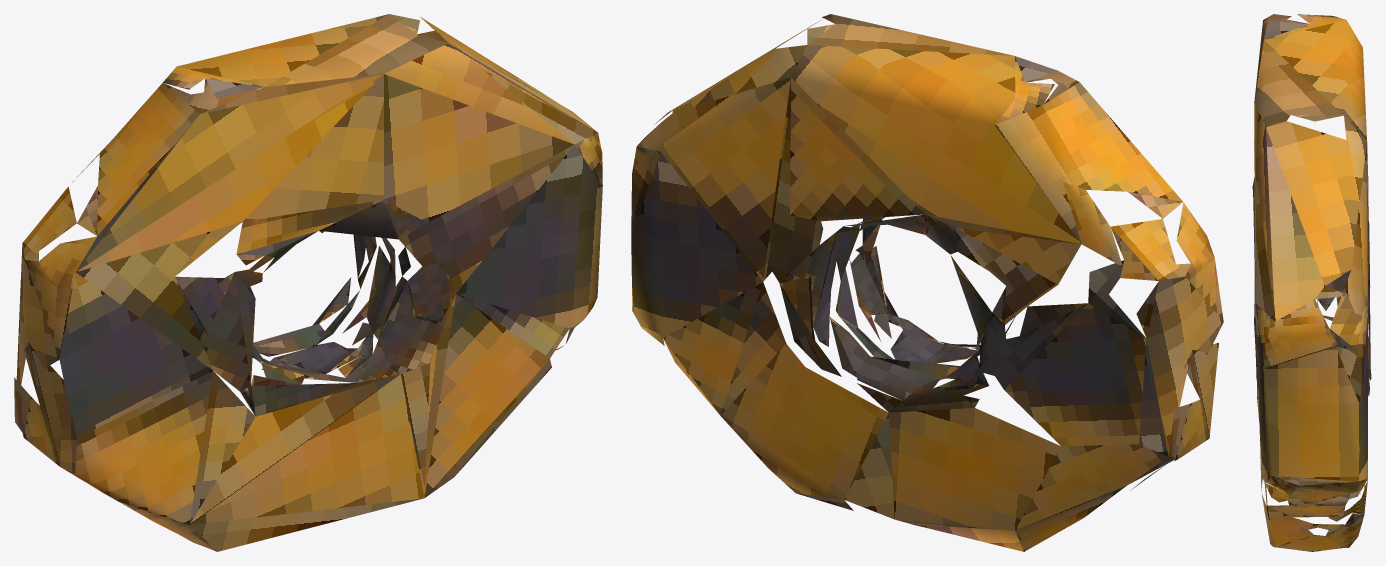
The model's file is bolt_v1.glb.
3 renders of one model, left to right at view 1: azimuth 30°, elevation 25°; view 2: azimuth 150°, elevation 25°; view 3: azimuth 270°, elevation 25°, orthographic. The views are drawn at different scales.
Visible parts, largest first — view 1: output_unwrapped; view 2: output_unwrapped; view 3: output_unwrapped.
Boxes of the visible parts, x1,y1,x2,y2 form: output_unwrapped: (14, 14, 602, 551); output_unwrapped: (631, 14, 1223, 551); output_unwrapped: (1252, 14, 1371, 551).
Bounding box in the file's own units: 0.6504 × 0.52 × 0.1293.
Materials: 1 (1 with a texture image).
